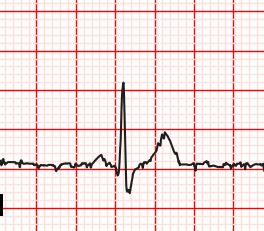ST Depression: (111, 163, 143, 199)
